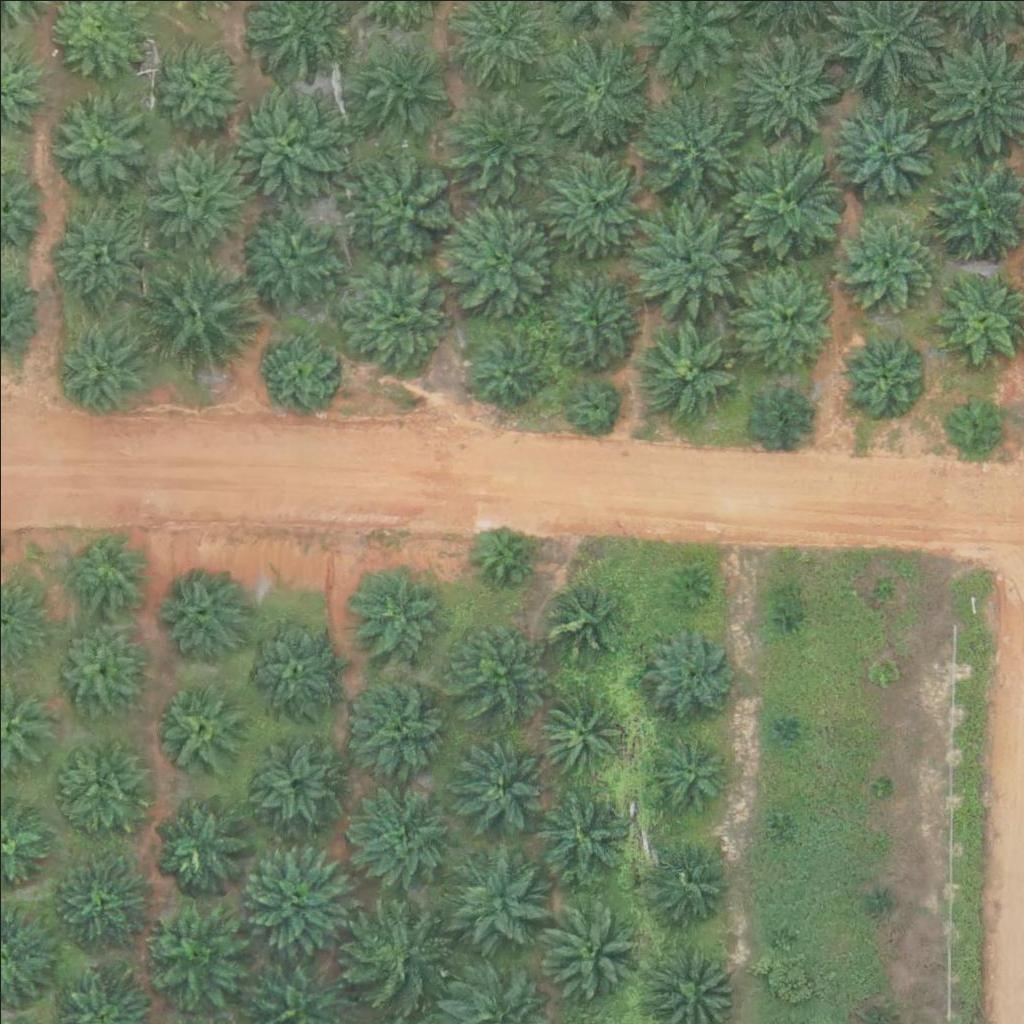Kelapa_Sawit: (718, 137, 843, 263), (635, 88, 760, 214), (530, 26, 655, 152), (330, 253, 455, 379), (342, 142, 467, 268), (222, 78, 347, 204), (131, 252, 256, 378), (135, 129, 260, 255), (534, 135, 659, 260), (240, 833, 353, 947), (633, 201, 746, 314), (634, 616, 746, 729), (823, 89, 935, 202), (732, 32, 844, 145), (445, 198, 557, 311), (444, 86, 556, 199), (48, 852, 148, 953), (140, 908, 240, 1009), (449, 847, 549, 948), (540, 898, 640, 999), (532, 786, 632, 887), (445, 619, 545, 720), (351, 674, 451, 775), (346, 564, 446, 665), (839, 208, 939, 309), (735, 267, 835, 368), (635, 319, 735, 420), (546, 265, 646, 366), (347, 31, 447, 132), (151, 797, 251, 897), (344, 904, 444, 1004), (351, 783, 451, 883), (240, 616, 340, 716), (148, 565, 248, 665), (46, 619, 146, 719), (241, 207, 341, 307), (51, 315, 151, 415), (47, 199, 147, 299), (47, 92, 147, 192), (640, 729, 728, 818), (255, 736, 343, 824), (643, 838, 731, 926), (534, 686, 622, 774), (837, 327, 925, 415), (56, 735, 143, 823), (455, 734, 542, 822), (153, 685, 240, 773), (59, 528, 146, 616), (152, 37, 239, 125), (259, 334, 334, 410), (540, 581, 615, 656), (468, 332, 543, 407), (473, 520, 536, 583), (750, 382, 813, 445), (941, 389, 1003, 452), (568, 378, 618, 428), (668, 569, 706, 607), (765, 922, 790, 947), (771, 806, 796, 831), (865, 889, 890, 914), (869, 771, 894, 796), (873, 659, 898, 684), (870, 575, 895, 600), (770, 717, 795, 742), (777, 607, 802, 632)
